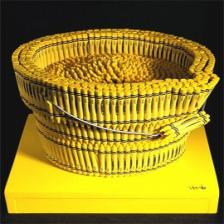yellow: (12, 29, 220, 177), (4, 115, 220, 214)
